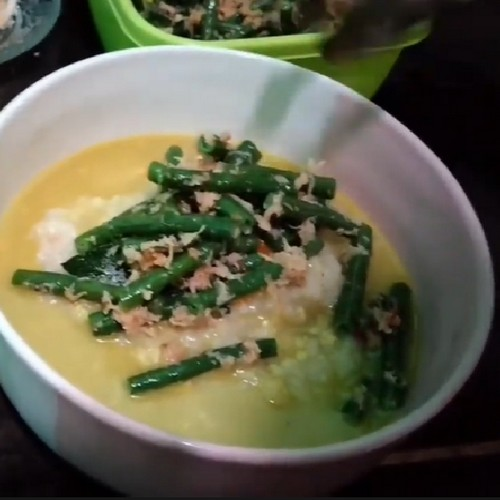bubur mengguh: (29, 107, 438, 427)
